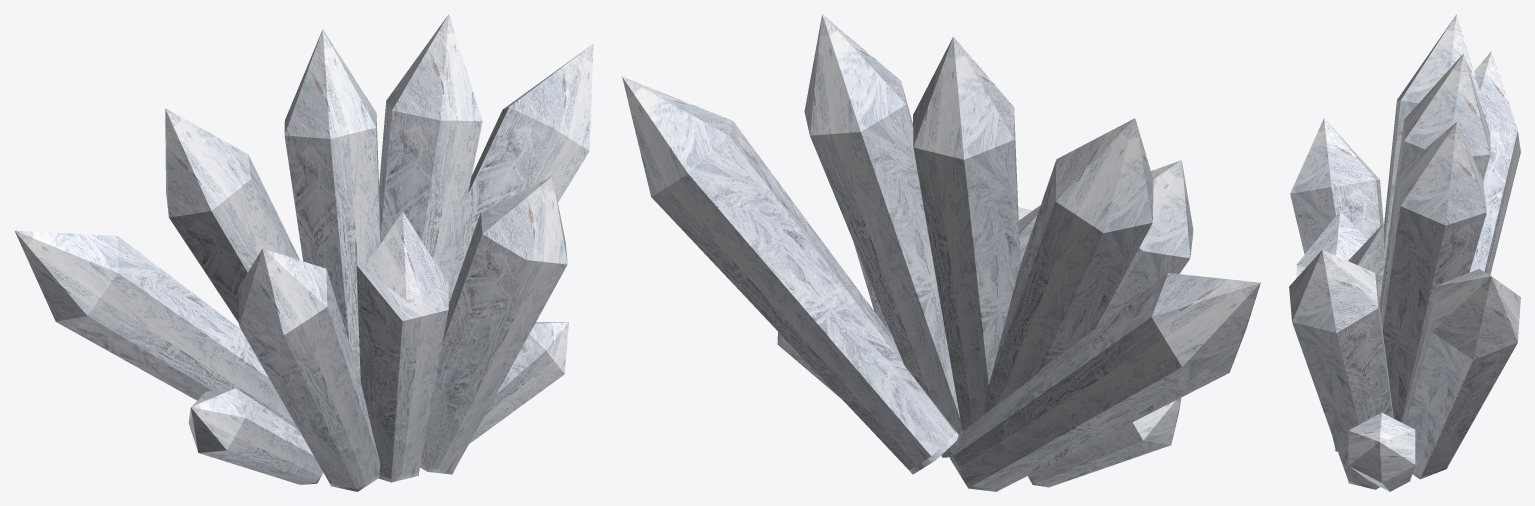
The model's file is LampLight_3DAsset_GreenCrystal.FBX.
3 views of the same model, side by side, from view 1: azimuth 30°, elevation 25°; view 2: azimuth 150°, elevation 25°; view 3: azimuth 270°, elevation 25° (orthographic). The views are drawn at different scales.
Visible parts, largest first — view 1: Green_Crystal007, Green_Crystal001, Green_Crystal002, Green_Crystal003, Green_Crystal, Green_Crystal020, Green_Crystal005, Green_Crystal021, Green_Crystal008, Green_Crystal009; view 2: Green_Crystal021, Green_Crystal007, Green_Crystal020, Green_Crystal003, Green_Crystal005, Green_Crystal002, Green_Crystal008; view 3: Green_Crystal020, Green_Crystal021, Green_Crystal001, Green_Crystal002, Green_Crystal003, Green_Crystal007, Green_Crystal009, Green_Crystal005, Green_Crystal.
Part boxes in pixels (x1=…): Green_Crystal007: x1=15, y1=230, x2=298, y2=429; Green_Crystal001: x1=420, y1=176, x2=567, y2=474; Green_Crystal002: x1=238, y1=248, x2=380, y2=491; Green_Crystal003: x1=284, y1=29, x2=380, y2=378; Green_Crystal: x1=356, y1=211, x2=448, y2=482; Green_Crystal020: x1=379, y1=14, x2=482, y2=289; Green_Crystal005: x1=165, y1=108, x2=299, y2=322; Green_Crystal021: x1=448, y1=44, x2=593, y2=303; Green_Crystal008: x1=188, y1=388, x2=323, y2=485; Green_Crystal009: x1=469, y1=322, x2=568, y2=443; Green_Crystal021: x1=622, y1=76, x2=958, y2=474; Green_Crystal007: x1=950, y1=273, x2=1260, y2=491; Green_Crystal020: x1=804, y1=14, x2=962, y2=457; Green_Crystal003: x1=913, y1=37, x2=1020, y2=430; Green_Crystal005: x1=983, y1=118, x2=1153, y2=414; Green_Crystal002: x1=1096, y1=160, x2=1193, y2=327; Green_Crystal008: x1=1028, y1=397, x2=1181, y2=487; Green_Crystal020: x1=1379, y1=122, x2=1486, y2=422; Green_Crystal021: x1=1402, y1=269, x2=1520, y2=479; Green_Crystal001: x1=1289, y1=250, x2=1393, y2=489; Green_Crystal002: x1=1290, y1=118, x2=1383, y2=254; Green_Crystal003: x1=1397, y1=54, x2=1490, y2=180; Green_Crystal007: x1=1469, y1=51, x2=1520, y2=274; Green_Crystal009: x1=1348, y1=412, x2=1415, y2=491; Green_Crystal005: x1=1384, y1=14, x2=1486, y2=264; Green_Crystal: x1=1296, y1=211, x2=1384, y2=451.
Size of the model in its own units: 103 by 71.84 by 37.47.
